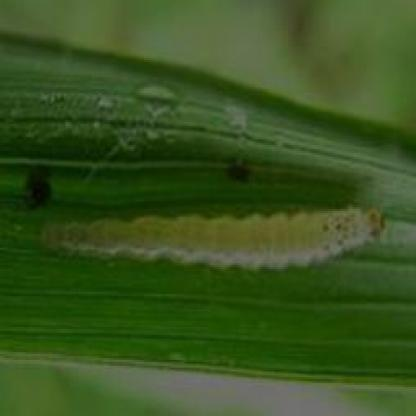leaf-folder: (21, 178, 398, 288)
